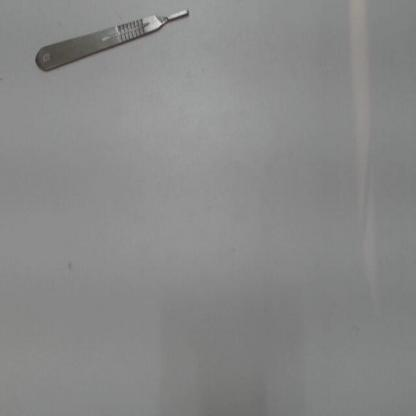No.3 BP Handle: (35, 9, 192, 79)
